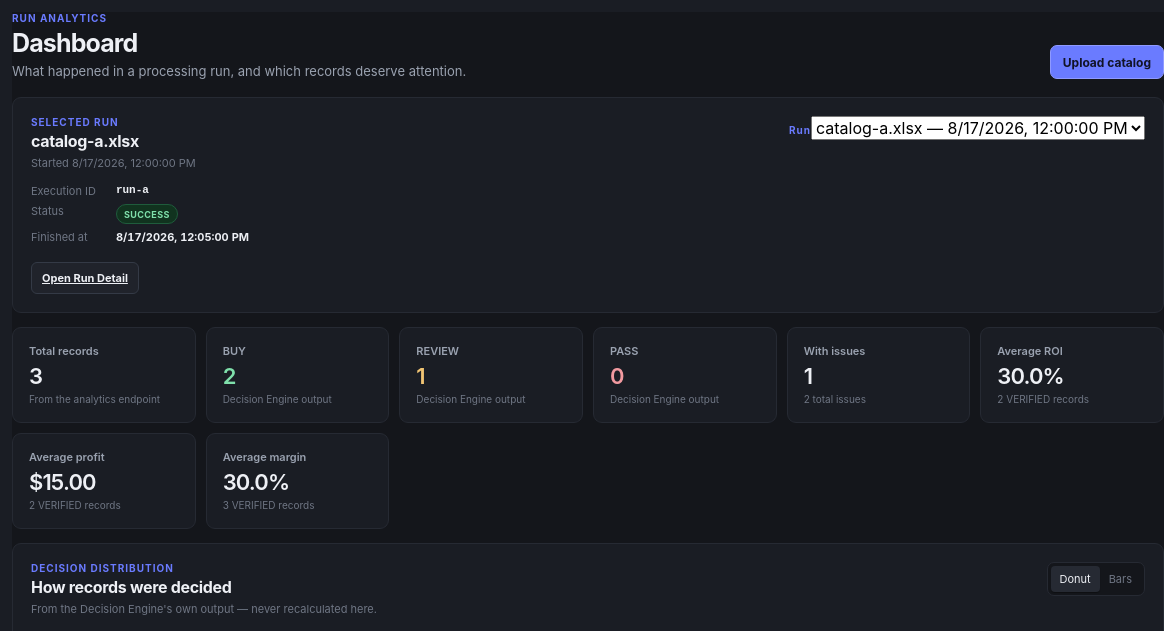
Scenario: DashboardPage › lets the operator switch to a different persisted run
Check: the heading "catalog-a.xlsx" is shown, box [31,131,139,151]
Select "catalog-b.xlsx — 8/16/2026, 9:00:00 AM" in the dropdown named "select run" at (978, 128), box [811,116,1145,140]
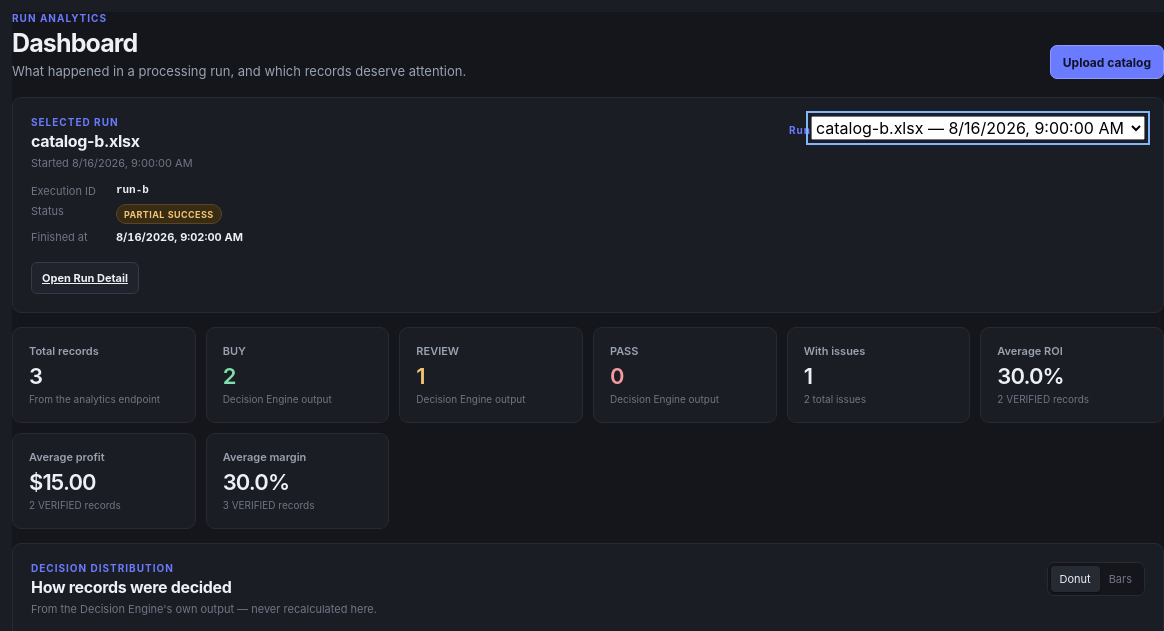
Check: the heading "catalog-b.xlsx" is shown, box [31,131,140,151]
